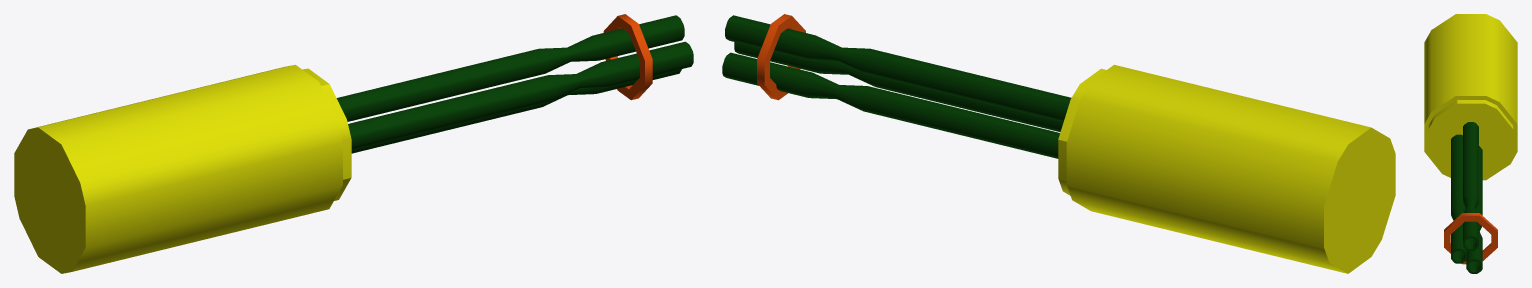
Rendered from MachineGun.fbx.
3 views of the same model, side by side, from view 1: azimuth 30°, elevation 25°; view 2: azimuth 150°, elevation 25°; view 3: azimuth 270°, elevation 25° (orthographic). The views are drawn at different scales.
Visible parts, largest first — view 1: Machine_Gun2; view 2: Machine_Gun2; view 3: Machine_Gun2.
Boxes of the visible parts, x1,y1,x2,y2 form: Machine_Gun2: [14, 14, 693, 273]; Machine_Gun2: [722, 14, 1395, 273]; Machine_Gun2: [1424, 14, 1517, 273].
Bounding box in the file's own units: 0.4359 × 0.0858 × 0.0858.
